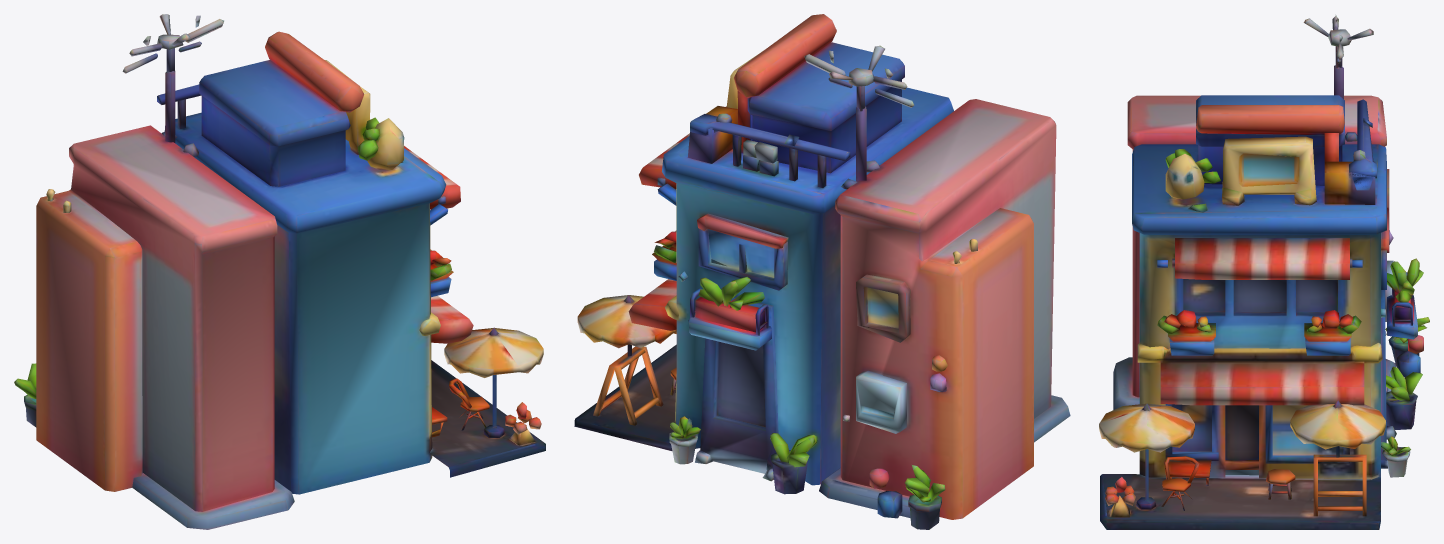
The model's file is bld-cafe.glb.
The picture shows the model from 3 angles, left to right: view 1: azimuth 30°, elevation 25°; view 2: azimuth 150°, elevation 25°; view 3: azimuth 270°, elevation 25°; orthographic projection. The views are drawn at different scales.
Visible parts, largest first — view 1: tripo_node_c0c7b785-2f99-4493-916d-f2f58bdc88f4; view 2: tripo_node_c0c7b785-2f99-4493-916d-f2f58bdc88f4; view 3: tripo_node_c0c7b785-2f99-4493-916d-f2f58bdc88f4.
Part boxes in pixels (box(x1,y1,x2,y2)): tripo_node_c0c7b785-2f99-4493-916d-f2f58bdc88f4: box(14, 14, 545, 529); tripo_node_c0c7b785-2f99-4493-916d-f2f58bdc88f4: box(574, 14, 1070, 529); tripo_node_c0c7b785-2f99-4493-916d-f2f58bdc88f4: box(1099, 14, 1429, 529).
Bounding box in the file's own units: 0.998 × 0.998 × 0.7677.
1 material, 1 textured.
